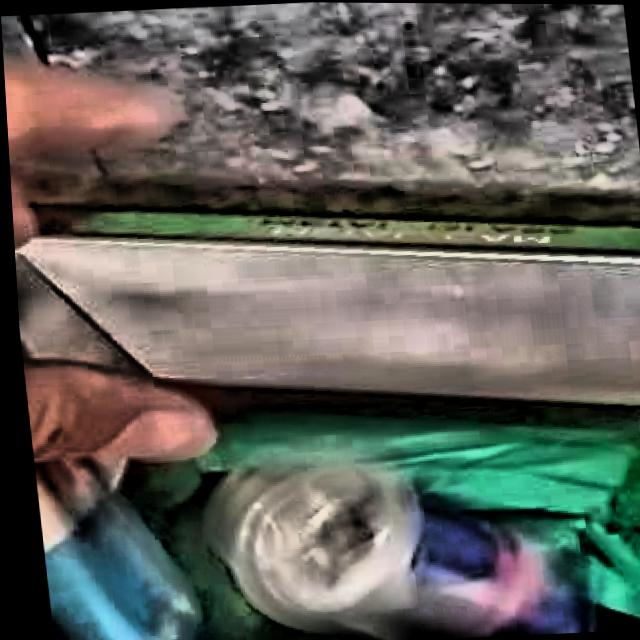metal: (201, 466, 590, 640)
